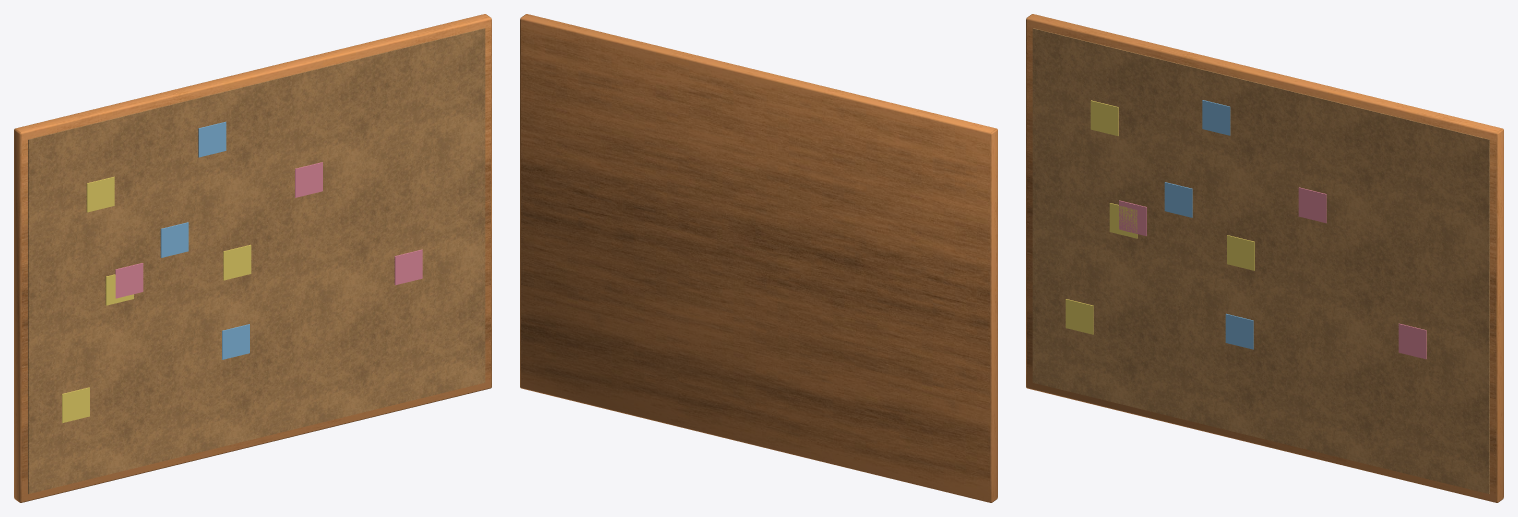
File: tech.cork-board-1200x900.glb
The picture shows the model from 3 angles, left to right: view 1: azimuth 30°, elevation 25°; view 2: azimuth 150°, elevation 25°; view 3: azimuth 330°, elevation 25°; orthographic projection.
Parts seen in each view (by area): view 1: tech.cork-board-1200x900.001; view 2: tech.cork-board-1200x900.001; view 3: tech.cork-board-1200x900.001.
Boxes of the visible parts, x1,y1,x2,y2 form: tech.cork-board-1200x900.001: (14, 14, 491, 502); tech.cork-board-1200x900.001: (520, 14, 997, 502); tech.cork-board-1200x900.001: (1026, 14, 1503, 502).
Size of the model in its own units: 1.2 by 0.9 by 0.034.
5 materials, 2 textured.
